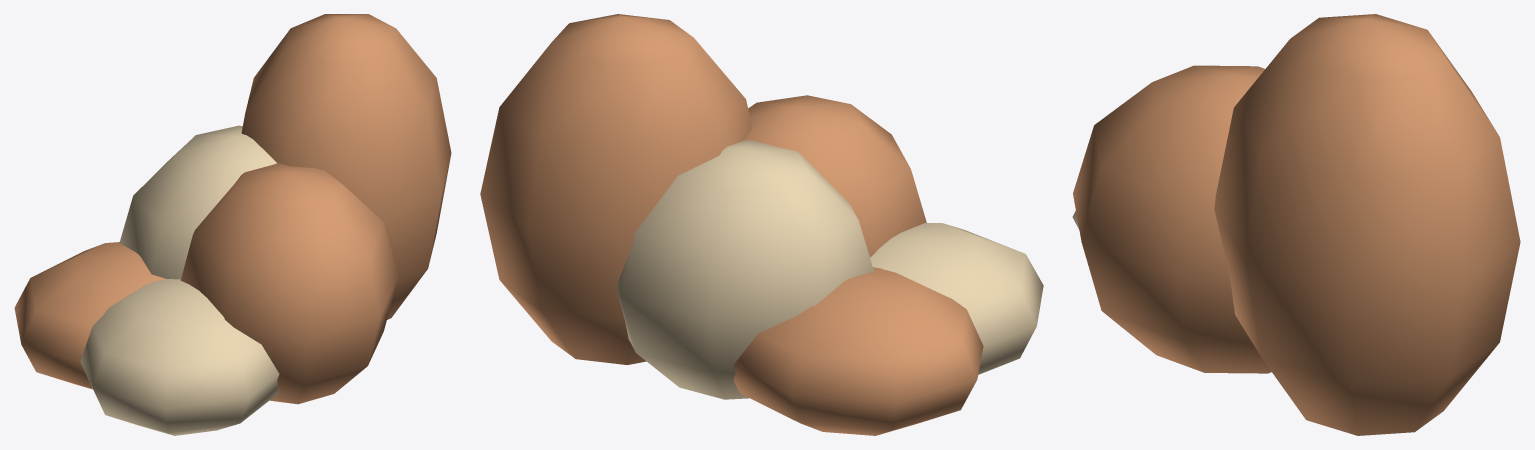
File: outback-and-australian-wildlife-red-sandstone-outcrop-d24944b7__5930.glb
The picture shows the model from 3 angles, left to right: view 1: azimuth 30°, elevation 25°; view 2: azimuth 150°, elevation 25°; view 3: azimuth 270°, elevation 25°; orthographic projection. The views are drawn at different scales.
Parts seen in each view (by area): view 1: red-sandstone-outcrop; view 2: red-sandstone-outcrop; view 3: red-sandstone-outcrop.
Boxes of the visible parts, left/top/right/bottom form: red-sandstone-outcrop: left=14, top=14, right=451, bottom=435; red-sandstone-outcrop: left=480, top=14, right=1043, bottom=435; red-sandstone-outcrop: left=1072, top=14, right=1520, bottom=435.
Bounding box in the file's own units: 2.85 × 2 × 1.98.
